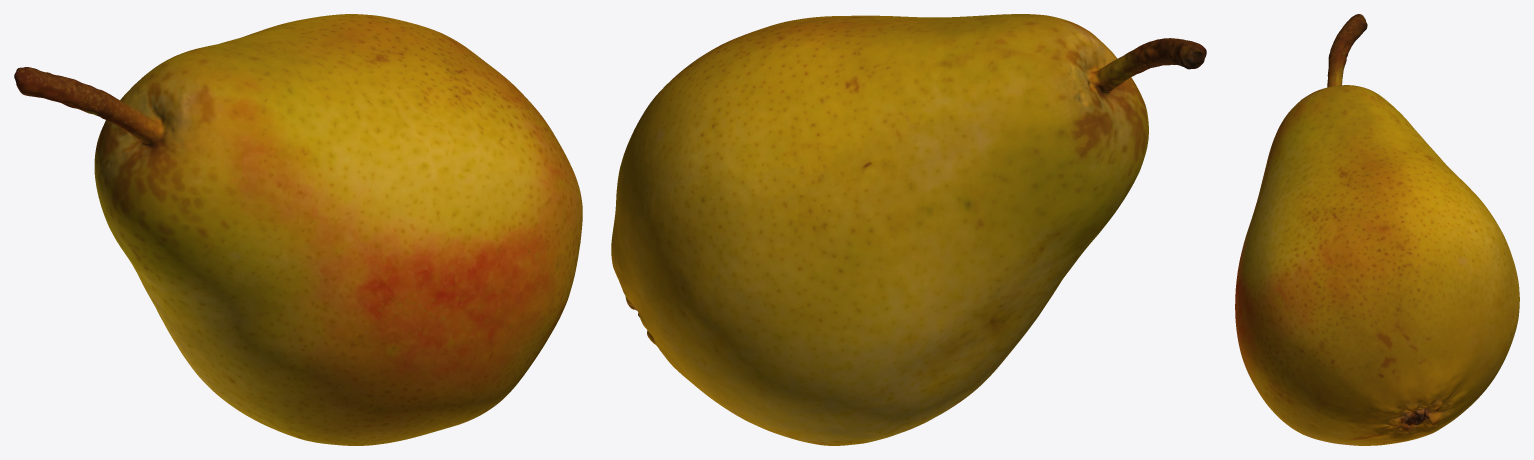
The model's file is korean_beauty_pear.glb.
3 views of the same model, side by side, from view 1: azimuth 30°, elevation 25°; view 2: azimuth 150°, elevation 25°; view 3: azimuth 270°, elevation 25° (orthographic). The views are drawn at different scales.
Parts seen in each view (by area): view 1: Object_3, Object_4, Object_2, Object_5, Object_6, Object_8, Object_7; view 2: Object_2, Object_4, Object_3, Object_5, Object_6, Object_8, Object_7; view 3: Object_2, Object_3, Object_4, Object_5, Object_6, Object_8, Object_7.
Part boxes in pixels (x1,y1,x2,y2): Object_3: (101,30,582,443); Object_4: (17,14,580,445); Object_2: (15,14,557,445); Object_5: (14,15,582,445); Object_6: (16,14,582,445); Object_8: (14,15,581,444); Object_7: (15,14,580,427); Object_2: (611,14,1202,445); Object_4: (616,14,1205,440); Object_3: (620,14,1182,445); Object_5: (613,14,1206,444); Object_6: (613,14,1204,445); Object_8: (611,14,1204,444); Object_7: (619,16,1205,439); Object_2: (1238,14,1514,444); Object_3: (1236,22,1519,445); Object_4: (1235,24,1519,445); Object_5: (1235,15,1519,445); Object_6: (1235,14,1519,445); Object_8: (1235,18,1519,445); Object_7: (1235,14,1519,445).
Size of the model in its own units: 28.49 by 22.26 by 18.95.
Materials: 1 (1 with a texture image).
